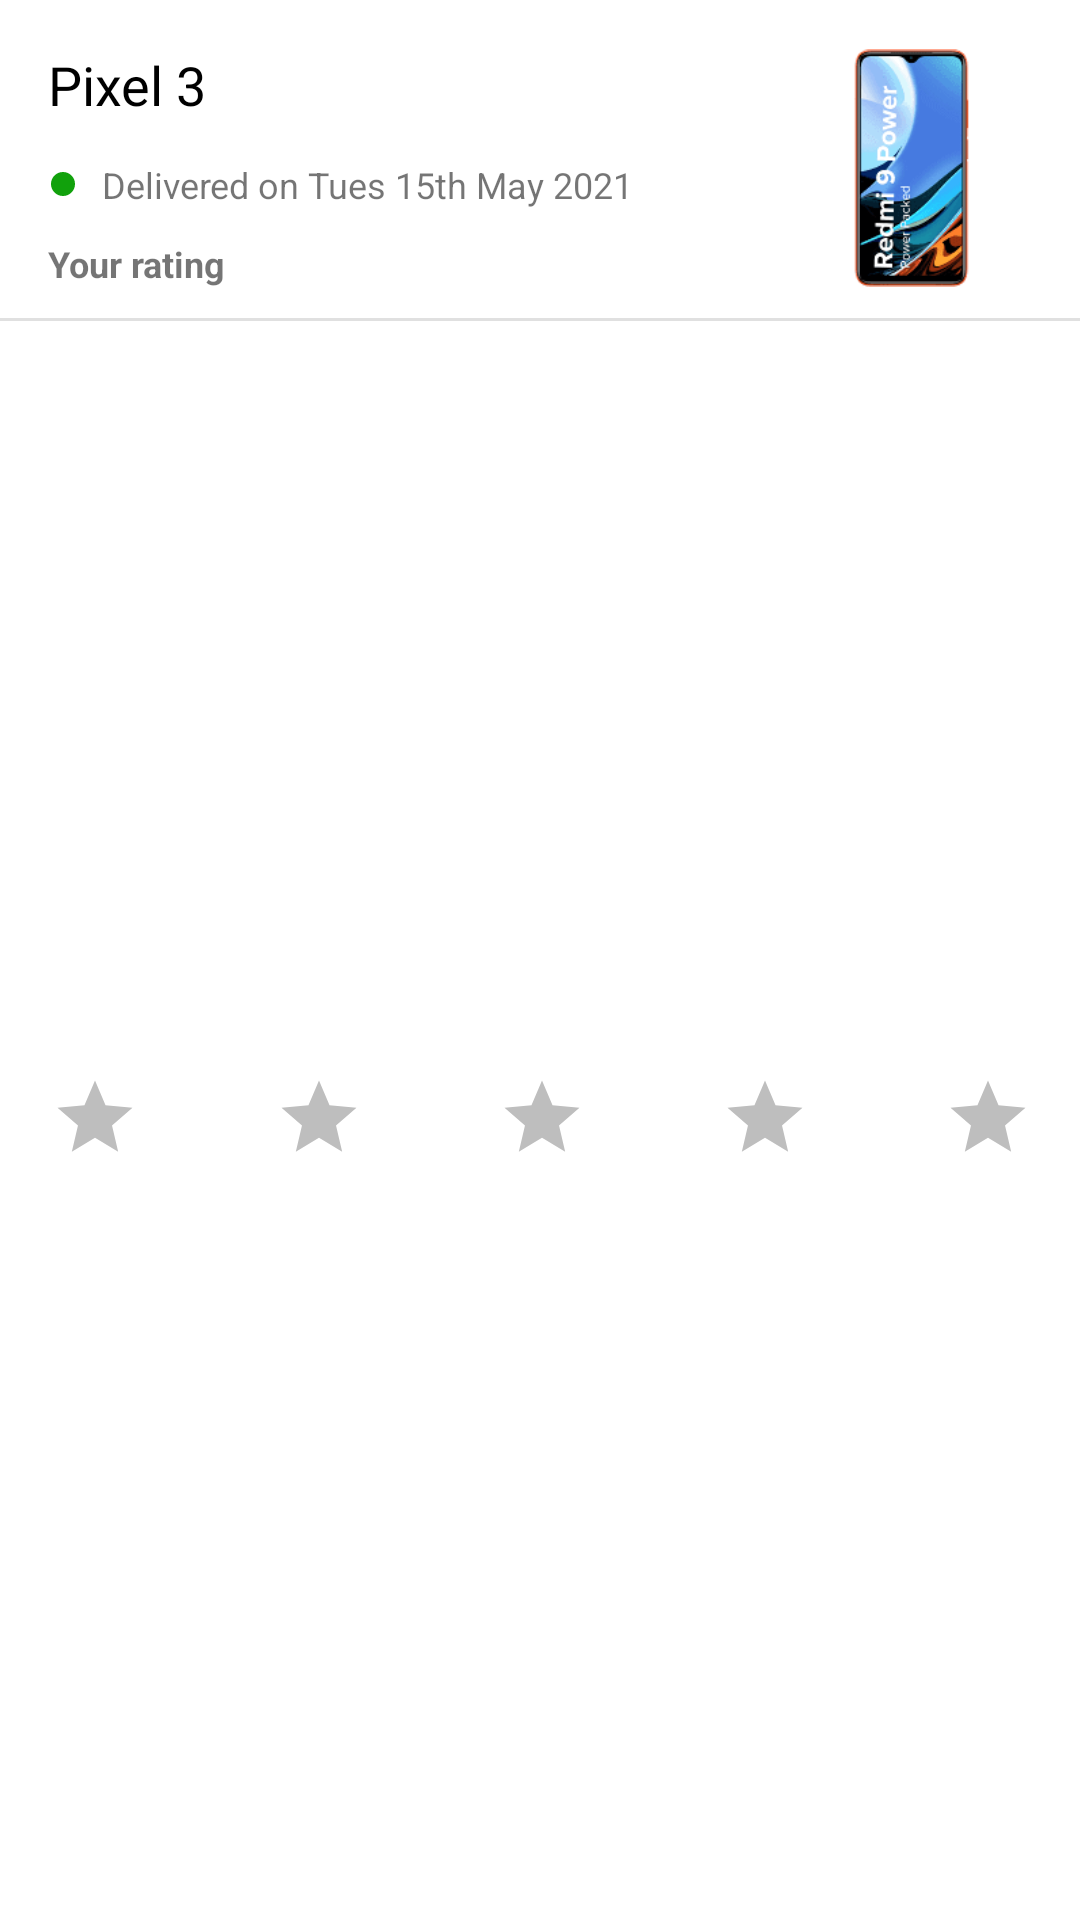

Locate icon controls on the screen. Image size 1080×1920, boxes as Rect(x1, y1, x2, y2).
star: Rect(58, 1081, 132, 1151), Rect(282, 1081, 356, 1151), Rect(505, 1081, 579, 1151), Rect(728, 1081, 802, 1151), Rect(951, 1081, 1025, 1151)
